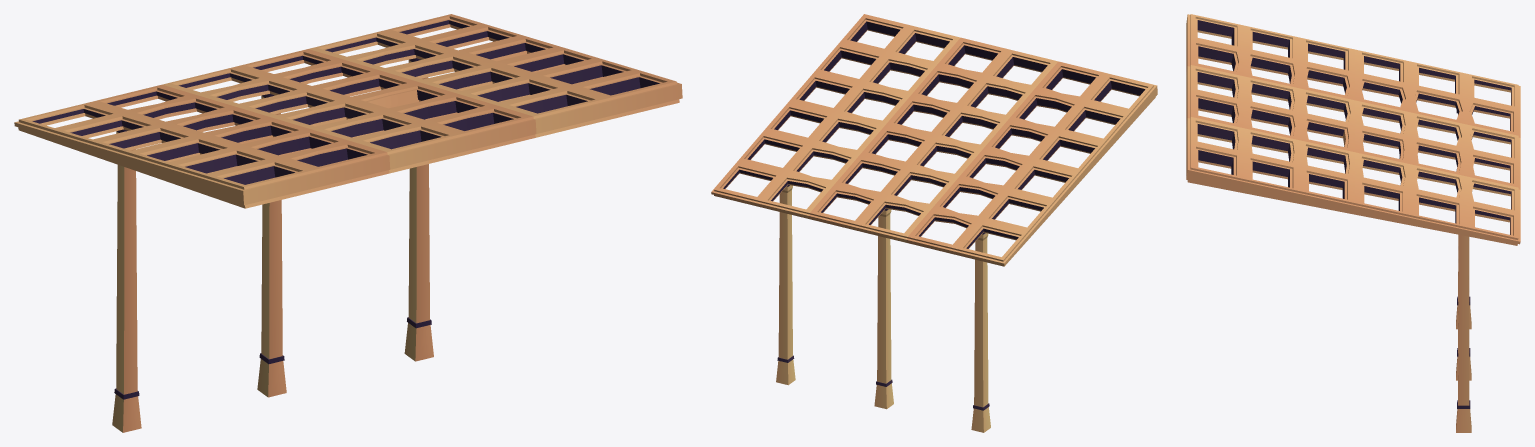
Rendered from Prop_Lattice_White01.fbx.
3 views of the same model, side by side, from view 1: azimuth 30°, elevation 25°; view 2: azimuth 150°, elevation 25°; view 3: azimuth 270°, elevation 25° (orthographic). The views are drawn at different scales.
Visible parts, largest first — view 1: LightLattice.001; view 2: LightLattice.001; view 3: LightLattice.001.
Boxes of the visible parts, x1,y1,x2,y2 form: LightLattice.001: [14, 14, 682, 432]; LightLattice.001: [711, 14, 1157, 432]; LightLattice.001: [1186, 14, 1520, 432].
Size of the model in its own units: 240 by 206 by 218.
